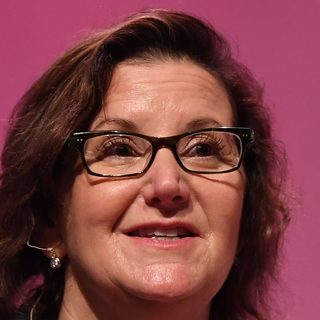eye: (99, 140, 143, 161), (187, 139, 226, 162)
